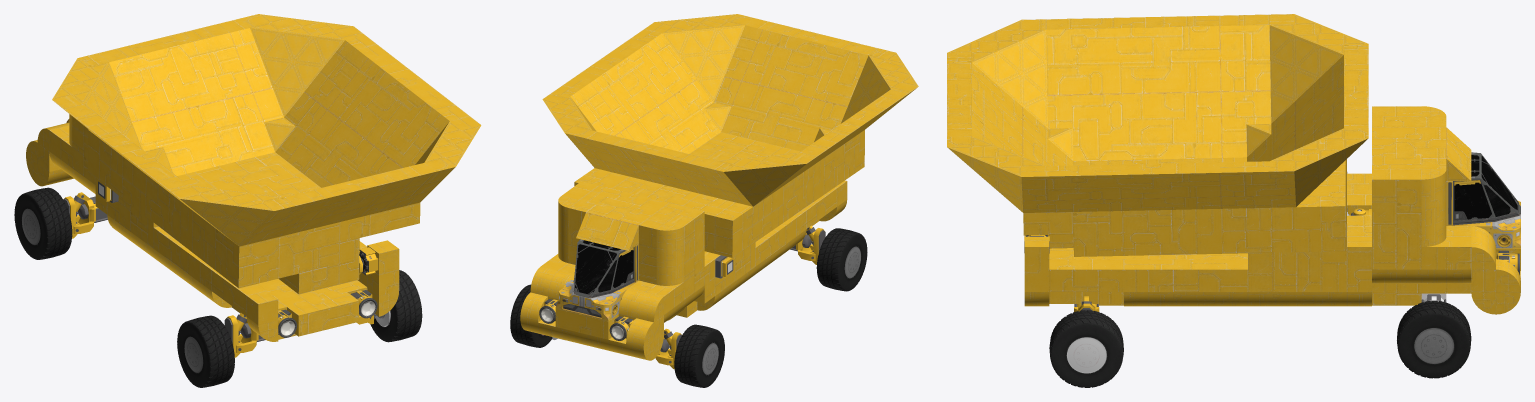
Rendered from DumpTruck_neilken.glb.
The picture shows the model from 3 angles, left to right: view 1: azimuth 30°, elevation 25°; view 2: azimuth 150°, elevation 25°; view 3: azimuth 270°, elevation 25°; orthographic projection. The views are drawn at different scales.
Parts seen in each view (by area): view 1: Object_2, Object_10, Object_11, Object_8, Object_14, Object_9, Object_15; view 2: Object_10, Object_2, Object_11, Object_8, Object_16, Object_3, Object_14, Object_15, Object_7; view 3: Object_2, Object_10, Object_11, Object_9, Object_8, Object_16, Object_3.
Boxes of the visible parts, x1,y1,x2,y2 form: Object_2: [26, 14, 480, 341]; Object_10: [34, 28, 455, 338]; Object_11: [52, 14, 480, 246]; Object_8: [14, 187, 234, 387]; Object_14: [63, 192, 378, 357]; Object_9: [370, 270, 422, 342]; Object_15: [278, 290, 377, 337]; Object_10: [520, 25, 916, 360]; Object_2: [538, 14, 918, 360]; Object_11: [542, 14, 918, 250]; Object_8: [510, 228, 867, 387]; Object_16: [555, 239, 638, 320]; Object_3: [575, 240, 633, 294]; Object_14: [655, 225, 825, 369]; Object_15: [539, 299, 633, 340]; Object_7: [715, 255, 734, 278]; Object_2: [947, 14, 1520, 314]; Object_10: [972, 25, 1520, 306]; Object_11: [947, 14, 1470, 212]; Object_9: [1049, 310, 1123, 387]; Object_8: [1397, 300, 1471, 378]; Object_16: [1446, 152, 1520, 248]; Object_3: [1454, 155, 1517, 219].
Size of the model in its own units: 7.5 by 5.41 by 11.56.
16 materials, 16 textured.
